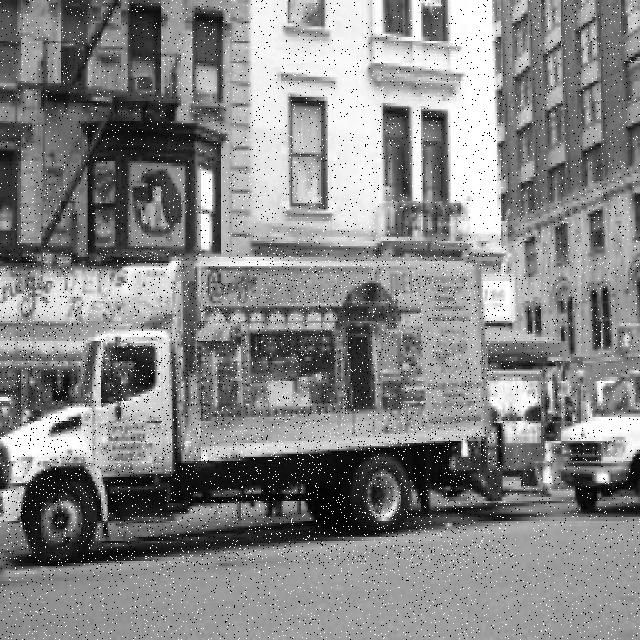Box Truck: (0, 253, 505, 566)
